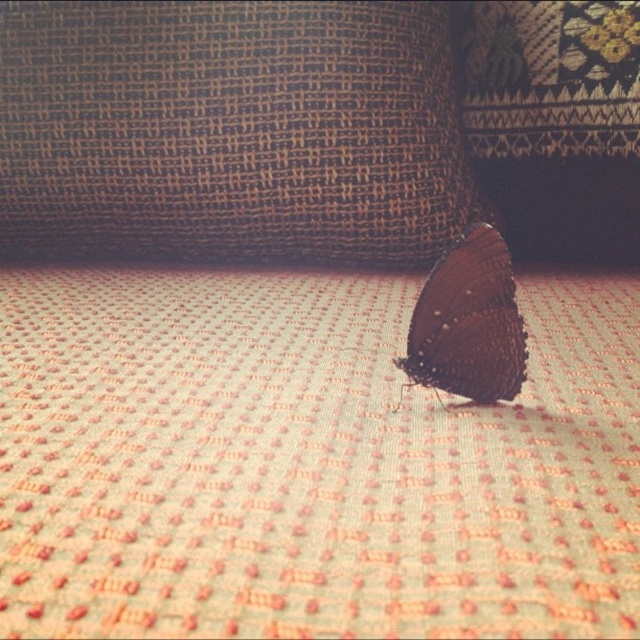Moths and butterflies: (337, 221, 528, 415)
